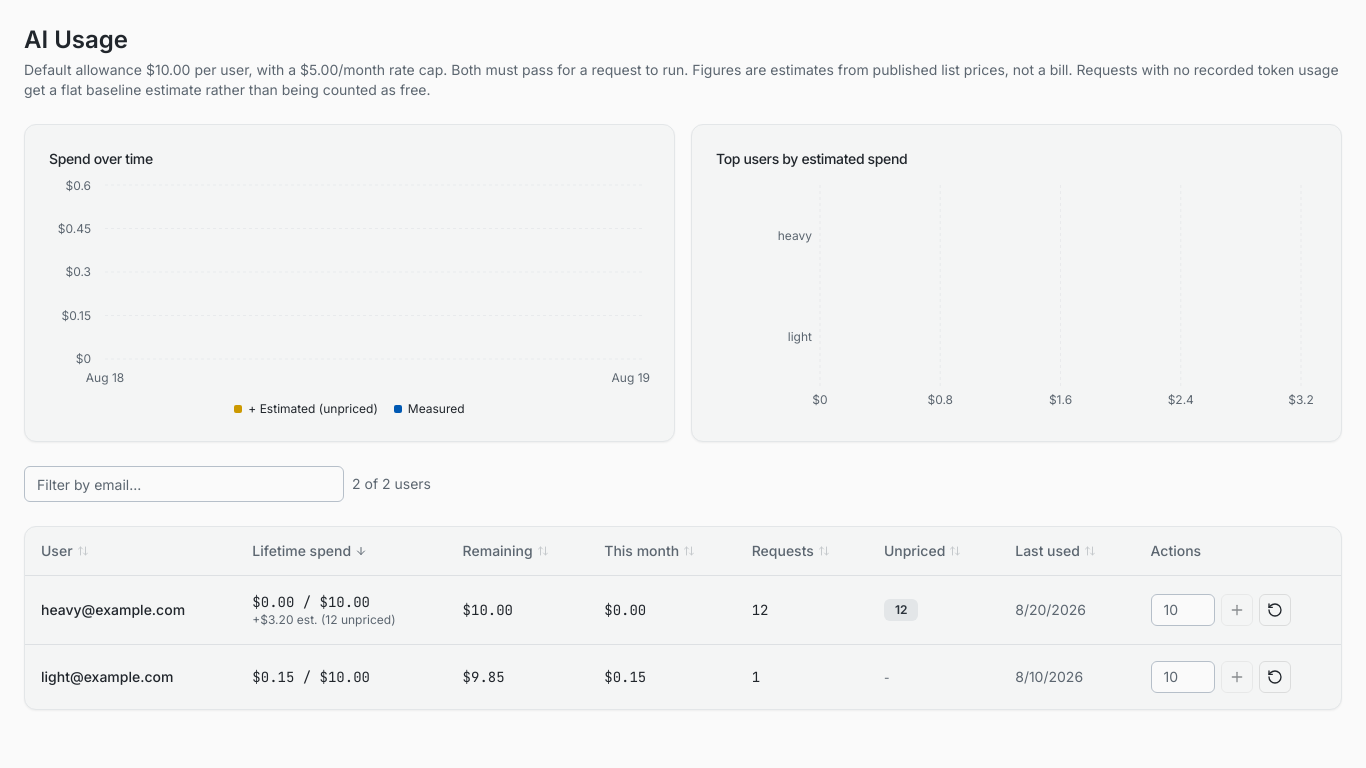
Scenario: AiUsageAdmin › filters rows by email
Check: the text "heavy@example.com" is shown, box [41,600,185,618]
Step 1. Type "light" into the field with test id "input-filter-email" → (184, 484), box [24,466,344,502]
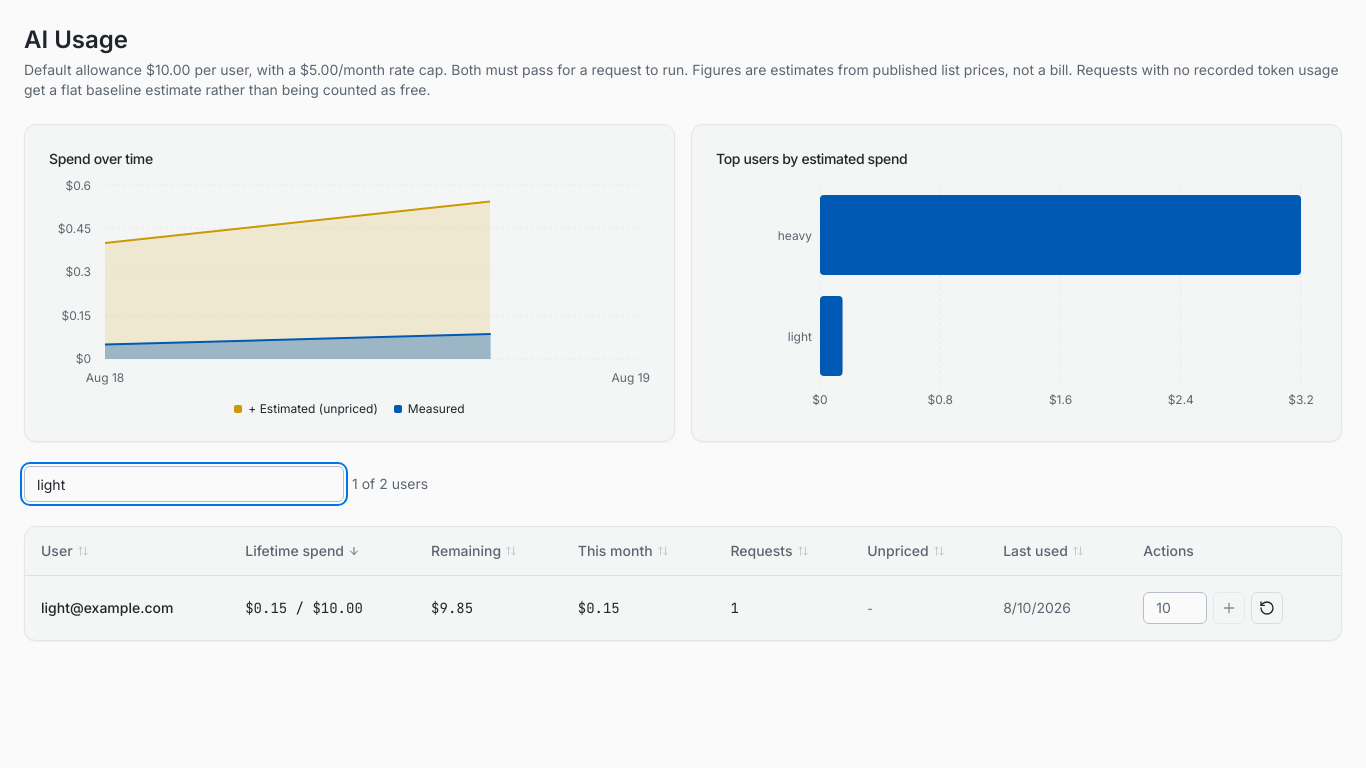
Check: the text "light@example.com" is shown, box [41,598,173,616]
Check: the text "heavy@example.com" is gone
